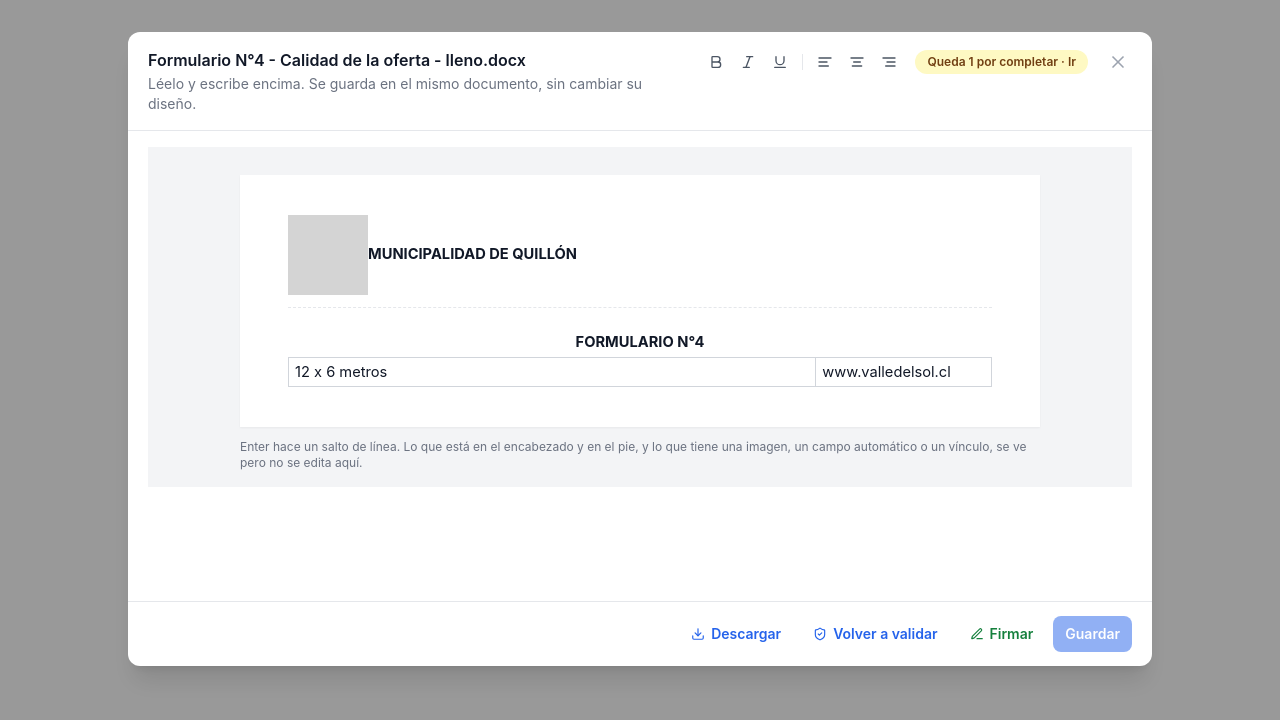
El documento, para verlo y editarlo › «Guardar» manda solo el párrafo que cambió y la pantalla sigue abierta
The width and height of the screenshot is (1280, 720).
Check: the text box "FORMULARIO N°4" is shown, box [576, 333, 704, 351]
Step 1. Clear the text box labelled "12 x 6 metros" → (341, 372), box [295, 362, 387, 380]
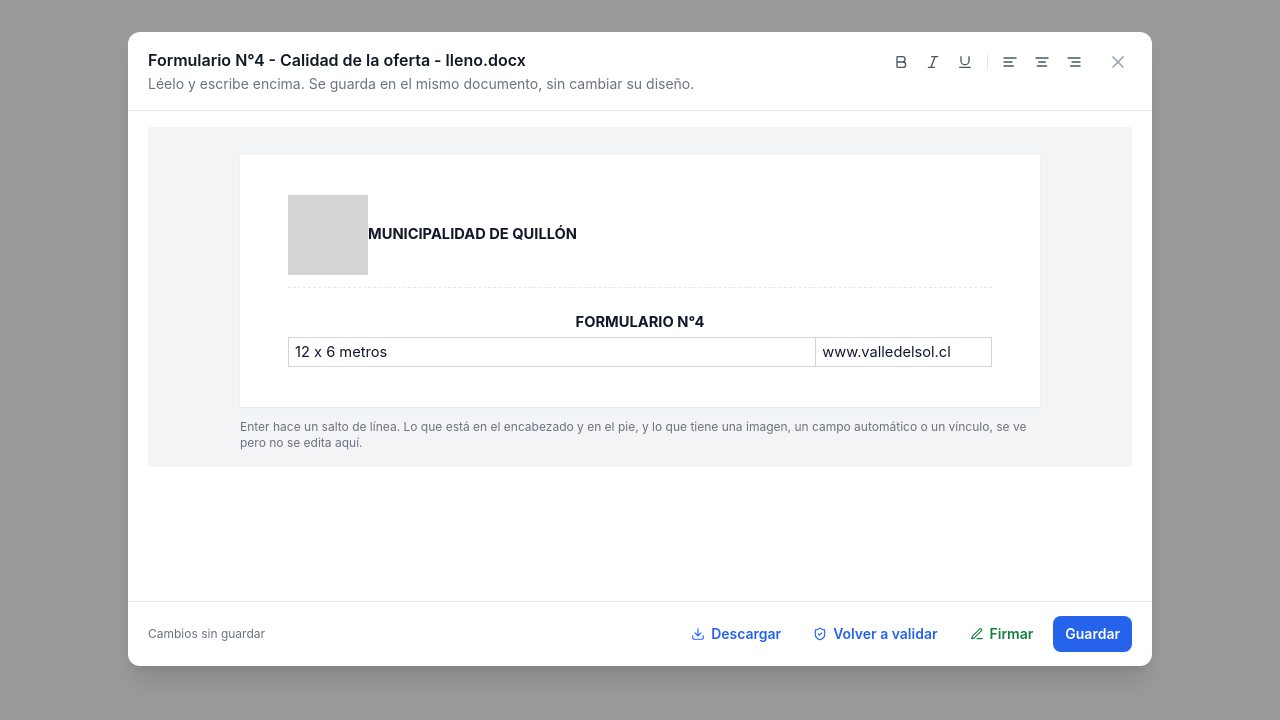
Check: the text "Cambios sin guardar" is shown, box [148, 626, 265, 642]
Check: the button "por completar" is gone
Step 2. Click the button "Guardar" → (1093, 634), box [1053, 616, 1132, 652]
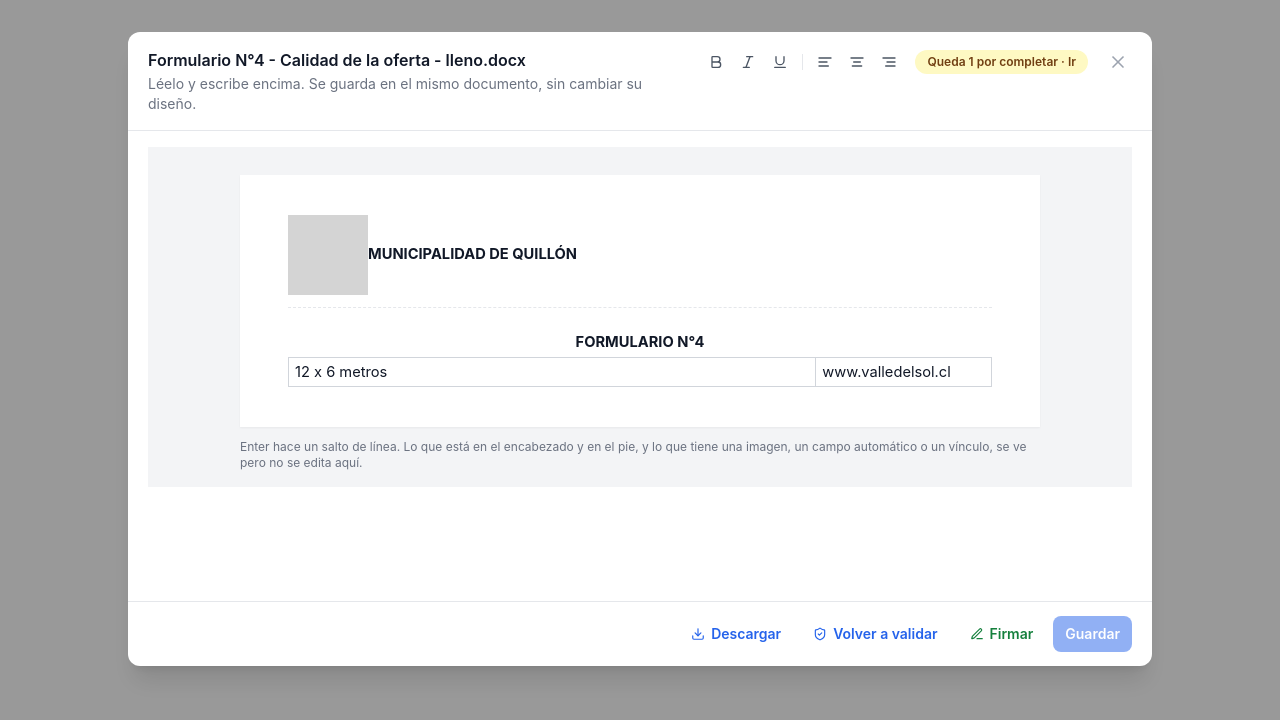
Check: the text "Cambios sin guardar" is gone
